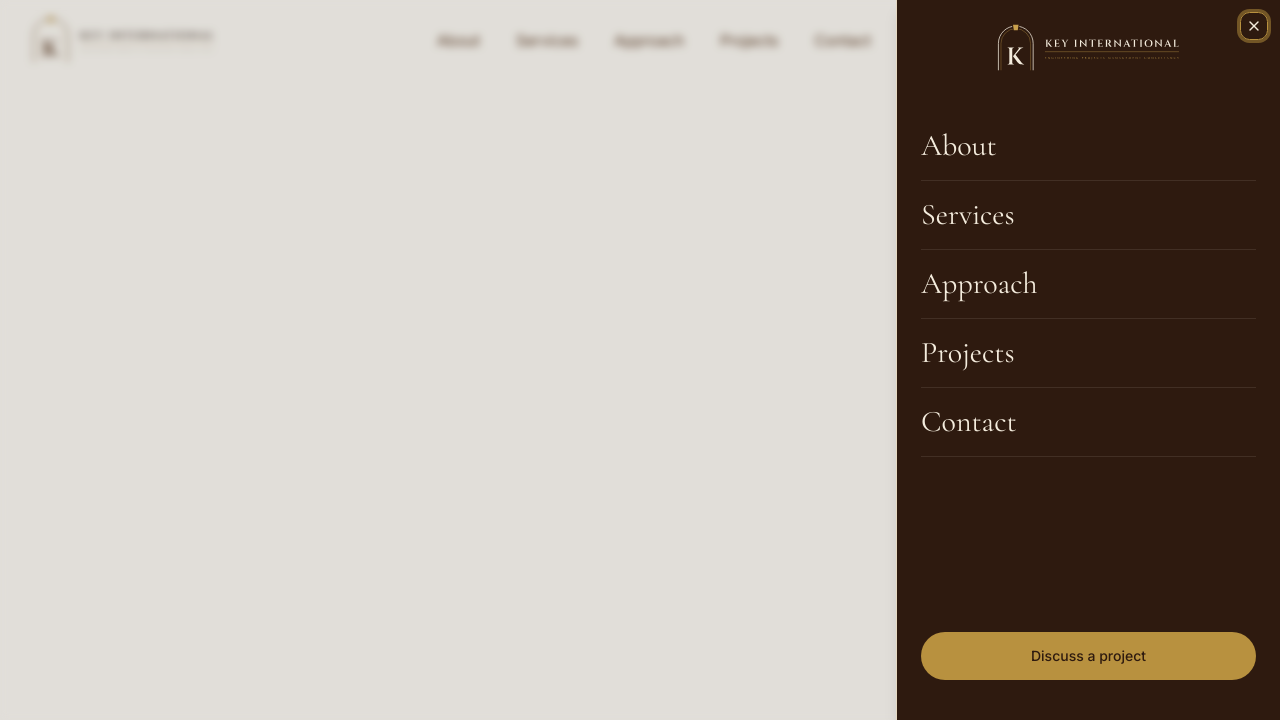
Test: Header › opens the mobile menu and closes it when a link is chosen
This screenshot has width=1280, height=720.
Earlier steps of the test are not shown.
Click the link "Services": (968, 214) x1=921 y1=196 x2=1015 y2=233
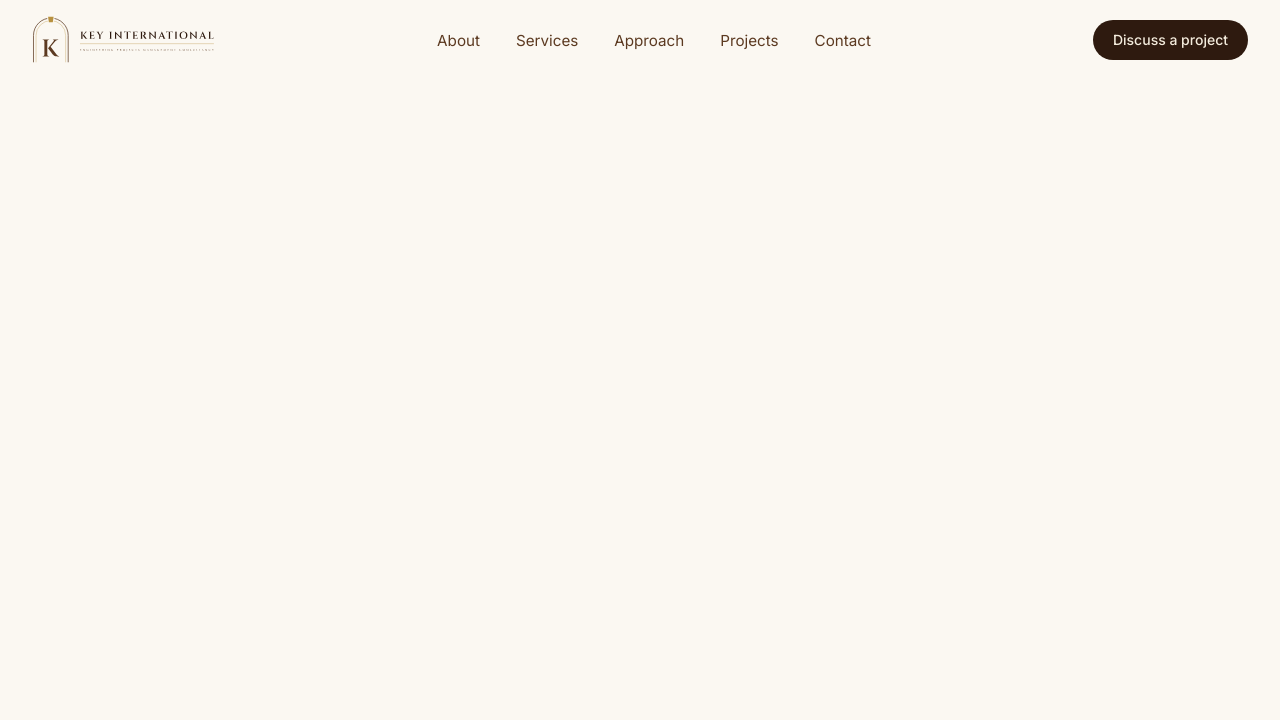
Now the dialog is gone
